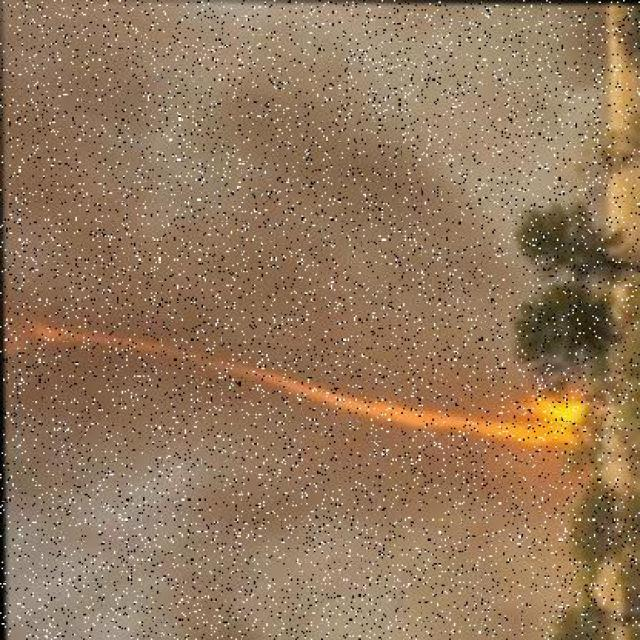fire: (21, 306, 604, 470)
